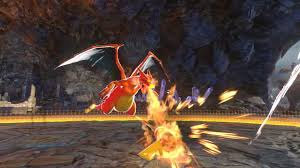charizard: (57, 42, 174, 118)
